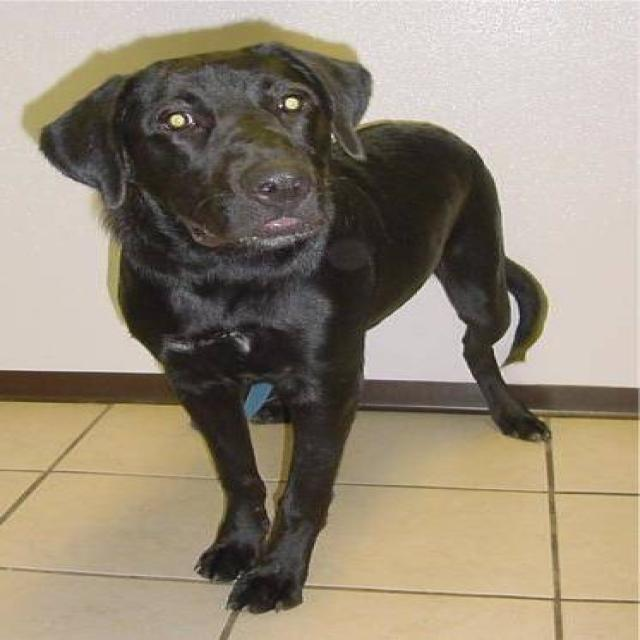dog: (36, 40, 553, 614)
